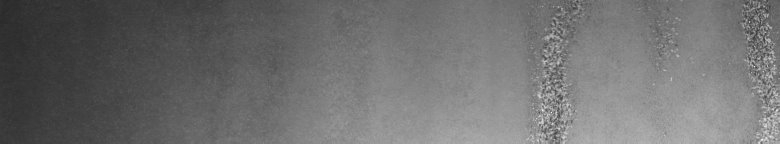hc: (527, 4, 591, 136)
